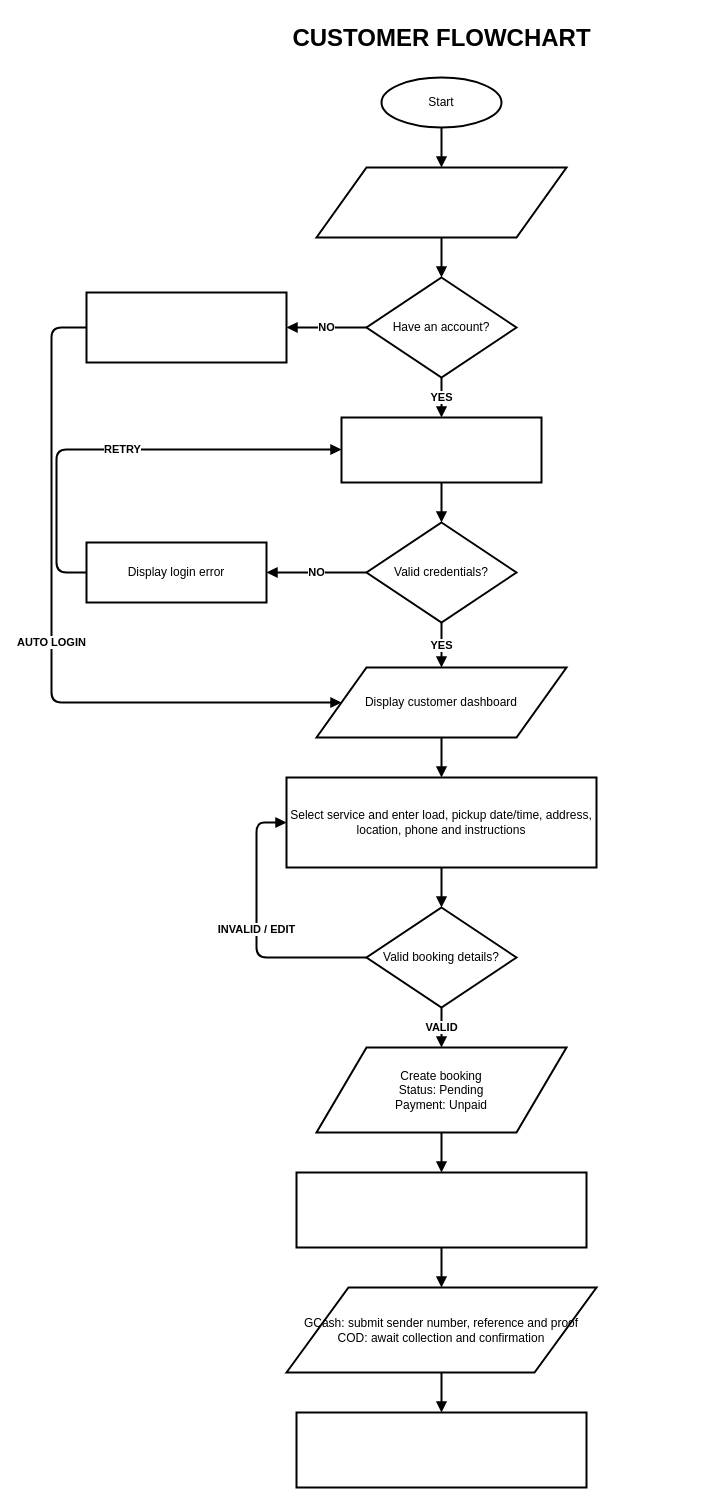
Some shapes in this 709 by 1505 pixel diagram are drawn without their labels. Here are the shapes that lost their labels. From the top down, the centre of each, then its label:
At (x=441, y=202): "Open QuickLaundry application".
At (x=186, y=327): "Enter registration details Create account".
At (x=441, y=449): "Enter email and password".
At (x=441, y=1209): "Choose COD or GCash from booking details at any time before paid".
At (x=441, y=1449): "Track booking, receive notifications, and view receipt when a payment exists".
